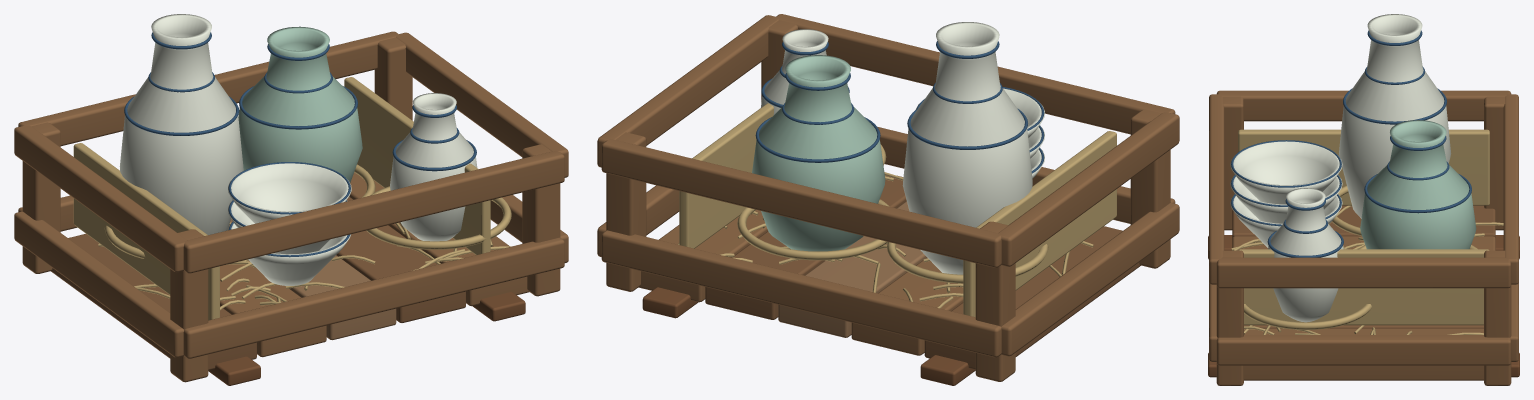
File: porcelain.glb
3 renders of one model, left to right at view 1: azimuth 30°, elevation 25°; view 2: azimuth 150°, elevation 25°; view 3: azimuth 270°, elevation 25°, orthographic. The views are drawn at different scales.
Parts seen in each view (by area): view 1: Cargo_porcelain; view 2: Cargo_porcelain; view 3: Cargo_porcelain.
Part boxes in pixels (x1,y1,x2,y2): Cargo_porcelain: (14,14,568,385); Cargo_porcelain: (597,14,1179,385); Cargo_porcelain: (1208,14,1519,385).
Bounding box in the file's own units: 1.06 × 0.6995 × 0.805.
